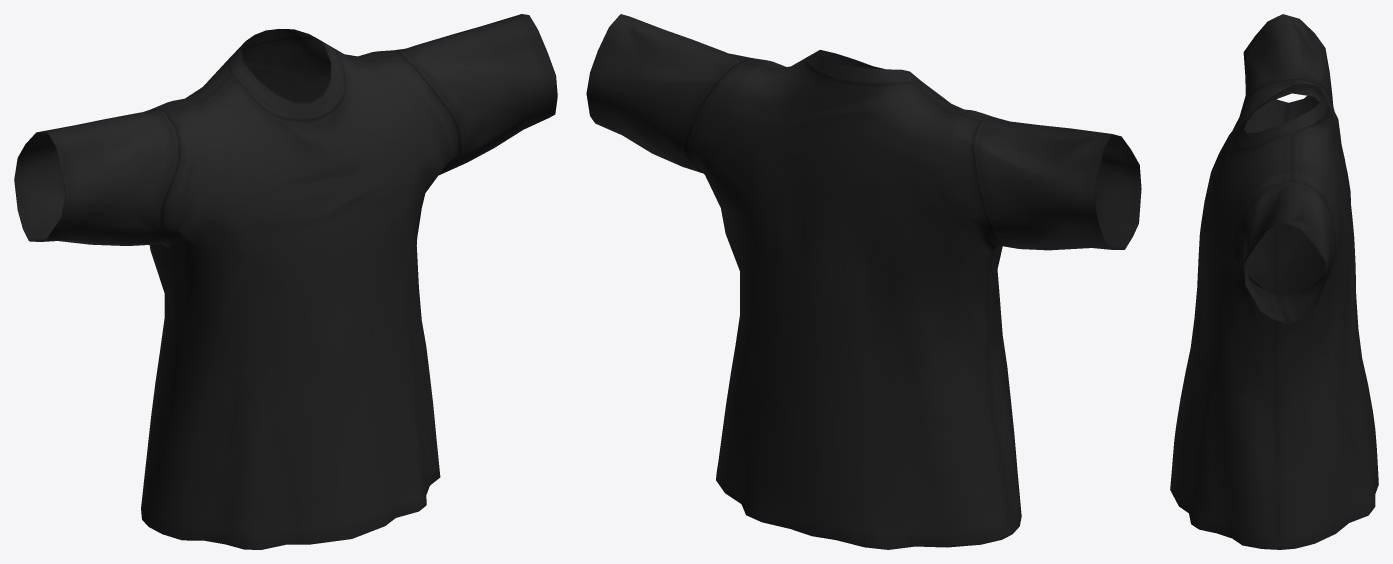
File: shirt.glb
3 views of the same model, side by side, from view 1: azimuth 30°, elevation 25°; view 2: azimuth 150°, elevation 25°; view 3: azimuth 270°, elevation 25° (orthographic). The views are drawn at different scales.
Parts seen in each view (by area): view 1: Body.014; view 2: Body.014; view 3: Body.014.
Part boxes in pixels (box(x1,y1,x2,y2)): Body.014: box(14, 14, 557, 549); Body.014: box(586, 14, 1141, 549); Body.014: box(1170, 14, 1378, 549).
Bounding box in the file's own units: 0.8467 × 0.704 × 0.3368.
1 material, 1 textured.
